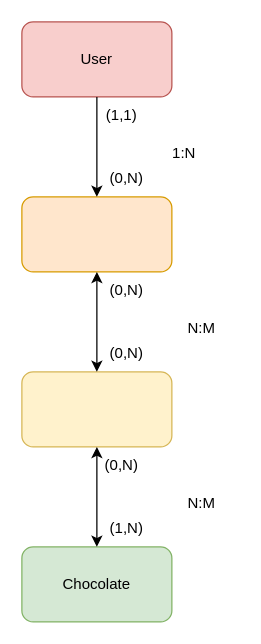
Some shapes in this 261 by 644 pixel diagram are drawn without their labels. The centre of each missing label's shape, as x and y in pixels:
Box: the point at 96,409
Order: the point at 96,234
